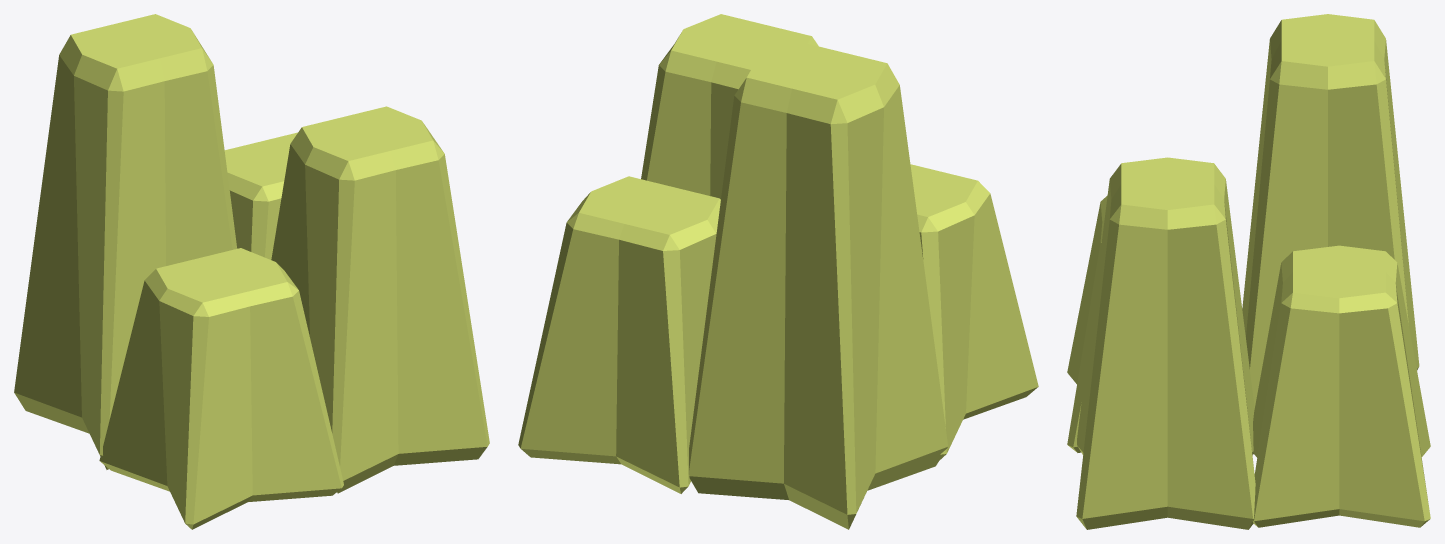
Rendered from Bullets.fbx.
The picture shows the model from 3 angles, left to right: view 1: azimuth 30°, elevation 25°; view 2: azimuth 150°, elevation 25°; view 3: azimuth 270°, elevation 25°; orthographic projection. The views are drawn at different scales.
Parts seen in each view (by area): view 1: Cube, Cube.003, Cube.002, Cube.001; view 2: Cube, Cube.001, Cube.002, Cube.003; view 3: Cube.003, Cube.001, Cube, Cube.002.
Part boxes in pixels (bbox=[...]): Cube: bbox=[14, 14, 237, 469]; Cube.003: bbox=[271, 106, 489, 493]; Cube.002: bbox=[99, 248, 343, 529]; Cube.001: bbox=[224, 132, 297, 259]; Cube: bbox=[689, 41, 947, 529]; Cube.001: bbox=[518, 176, 720, 493]; Cube.002: bbox=[910, 164, 1038, 459]; Cube.003: bbox=[641, 14, 818, 199]; Cube.003: bbox=[1076, 157, 1255, 529]; Cube.001: bbox=[1252, 245, 1430, 527]; Cube: bbox=[1242, 14, 1419, 454]; Cube.002: bbox=[1067, 195, 1107, 452].
Bounding box in the file's own units: 110 × 131 × 113.
